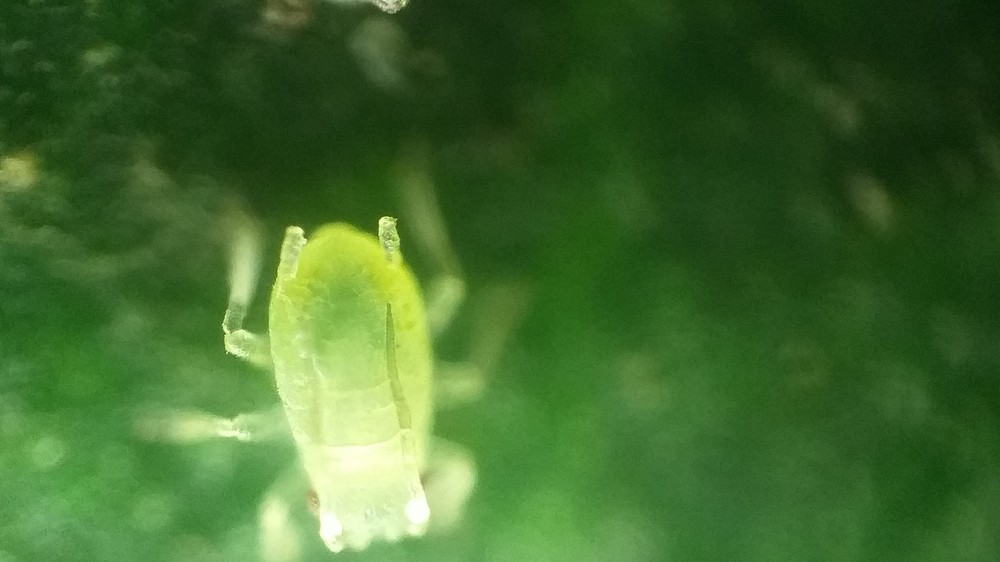Pulgon: (178, 198, 548, 548)
